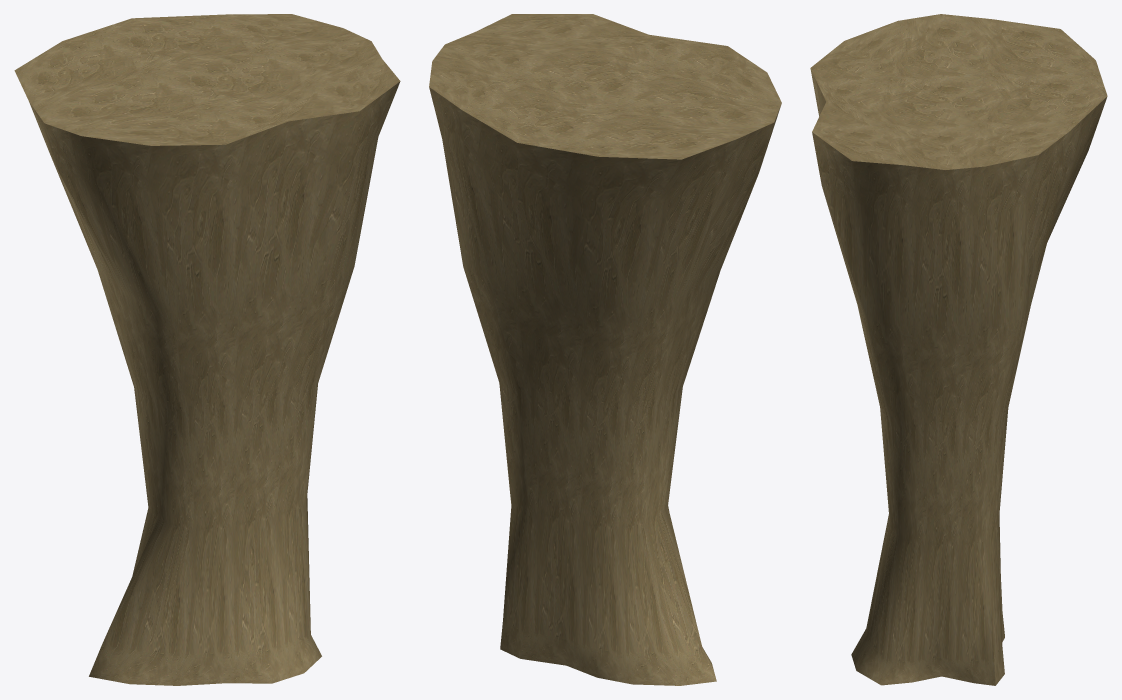
Rendered from SB_PLATFORMA.fbx.
3 views of the same model, side by side, from view 1: azimuth 30°, elevation 25°; view 2: azimuth 150°, elevation 25°; view 3: azimuth 270°, elevation 25° (orthographic). The views are drawn at different scales.
Parts seen in each view (by area): view 1: SB_PLATFORMA; view 2: SB_PLATFORMA; view 3: SB_PLATFORMA.
Boxes of the visible parts, x1,y1,x2,y2 form: SB_PLATFORMA: (14,14,400,685); SB_PLATFORMA: (429,14,781,685); SB_PLATFORMA: (810,14,1107,685).
Bounding box in the file's own units: 83656 × 138462 × 67276.
1 material, 1 textured.
